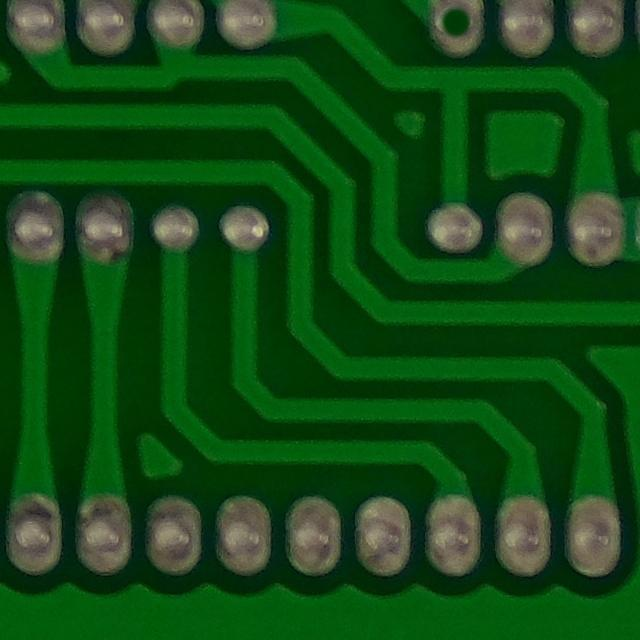missing_hole: (412, 0, 491, 61)
